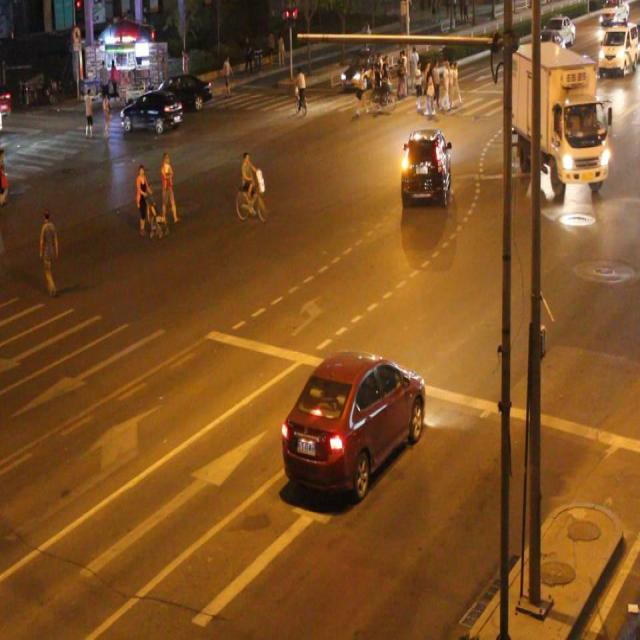bus: (507, 41, 609, 188)
car: (282, 350, 424, 488), (402, 128, 449, 206), (120, 90, 181, 135), (148, 72, 212, 113), (552, 70, 594, 122)
